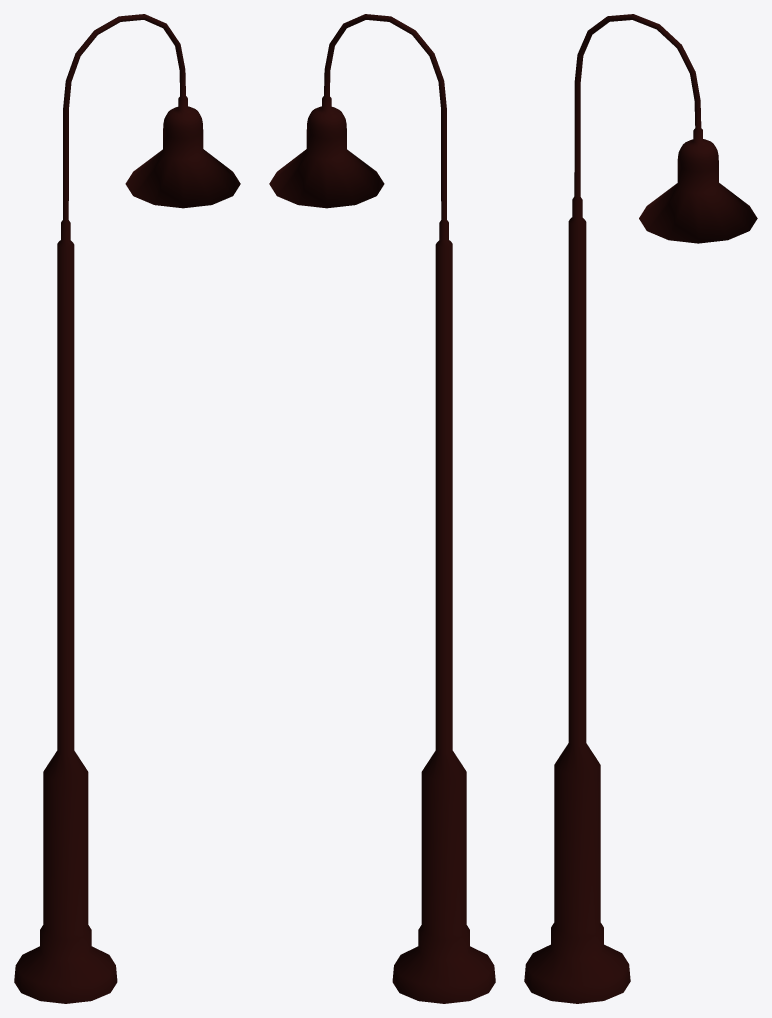
File: Street_Lamp_01.fbx
The picture shows the model from 3 angles, left to right: view 1: azimuth 30°, elevation 25°; view 2: azimuth 150°, elevation 25°; view 3: azimuth 330°, elevation 25°; orthographic projection. The views are drawn at different scales.
Parts seen in each view (by area): view 1: streetLamp; view 2: streetLamp; view 3: streetLamp.
Part boxes in pixels (left/top/right/bottom): streetLamp: left=14, top=14, right=240, bottom=1003; streetLamp: left=269, top=14, right=495, bottom=1003; streetLamp: left=524, top=14, right=757, bottom=1003.
Bounding box in the file's own units: 143 × 612 × 67.24.
